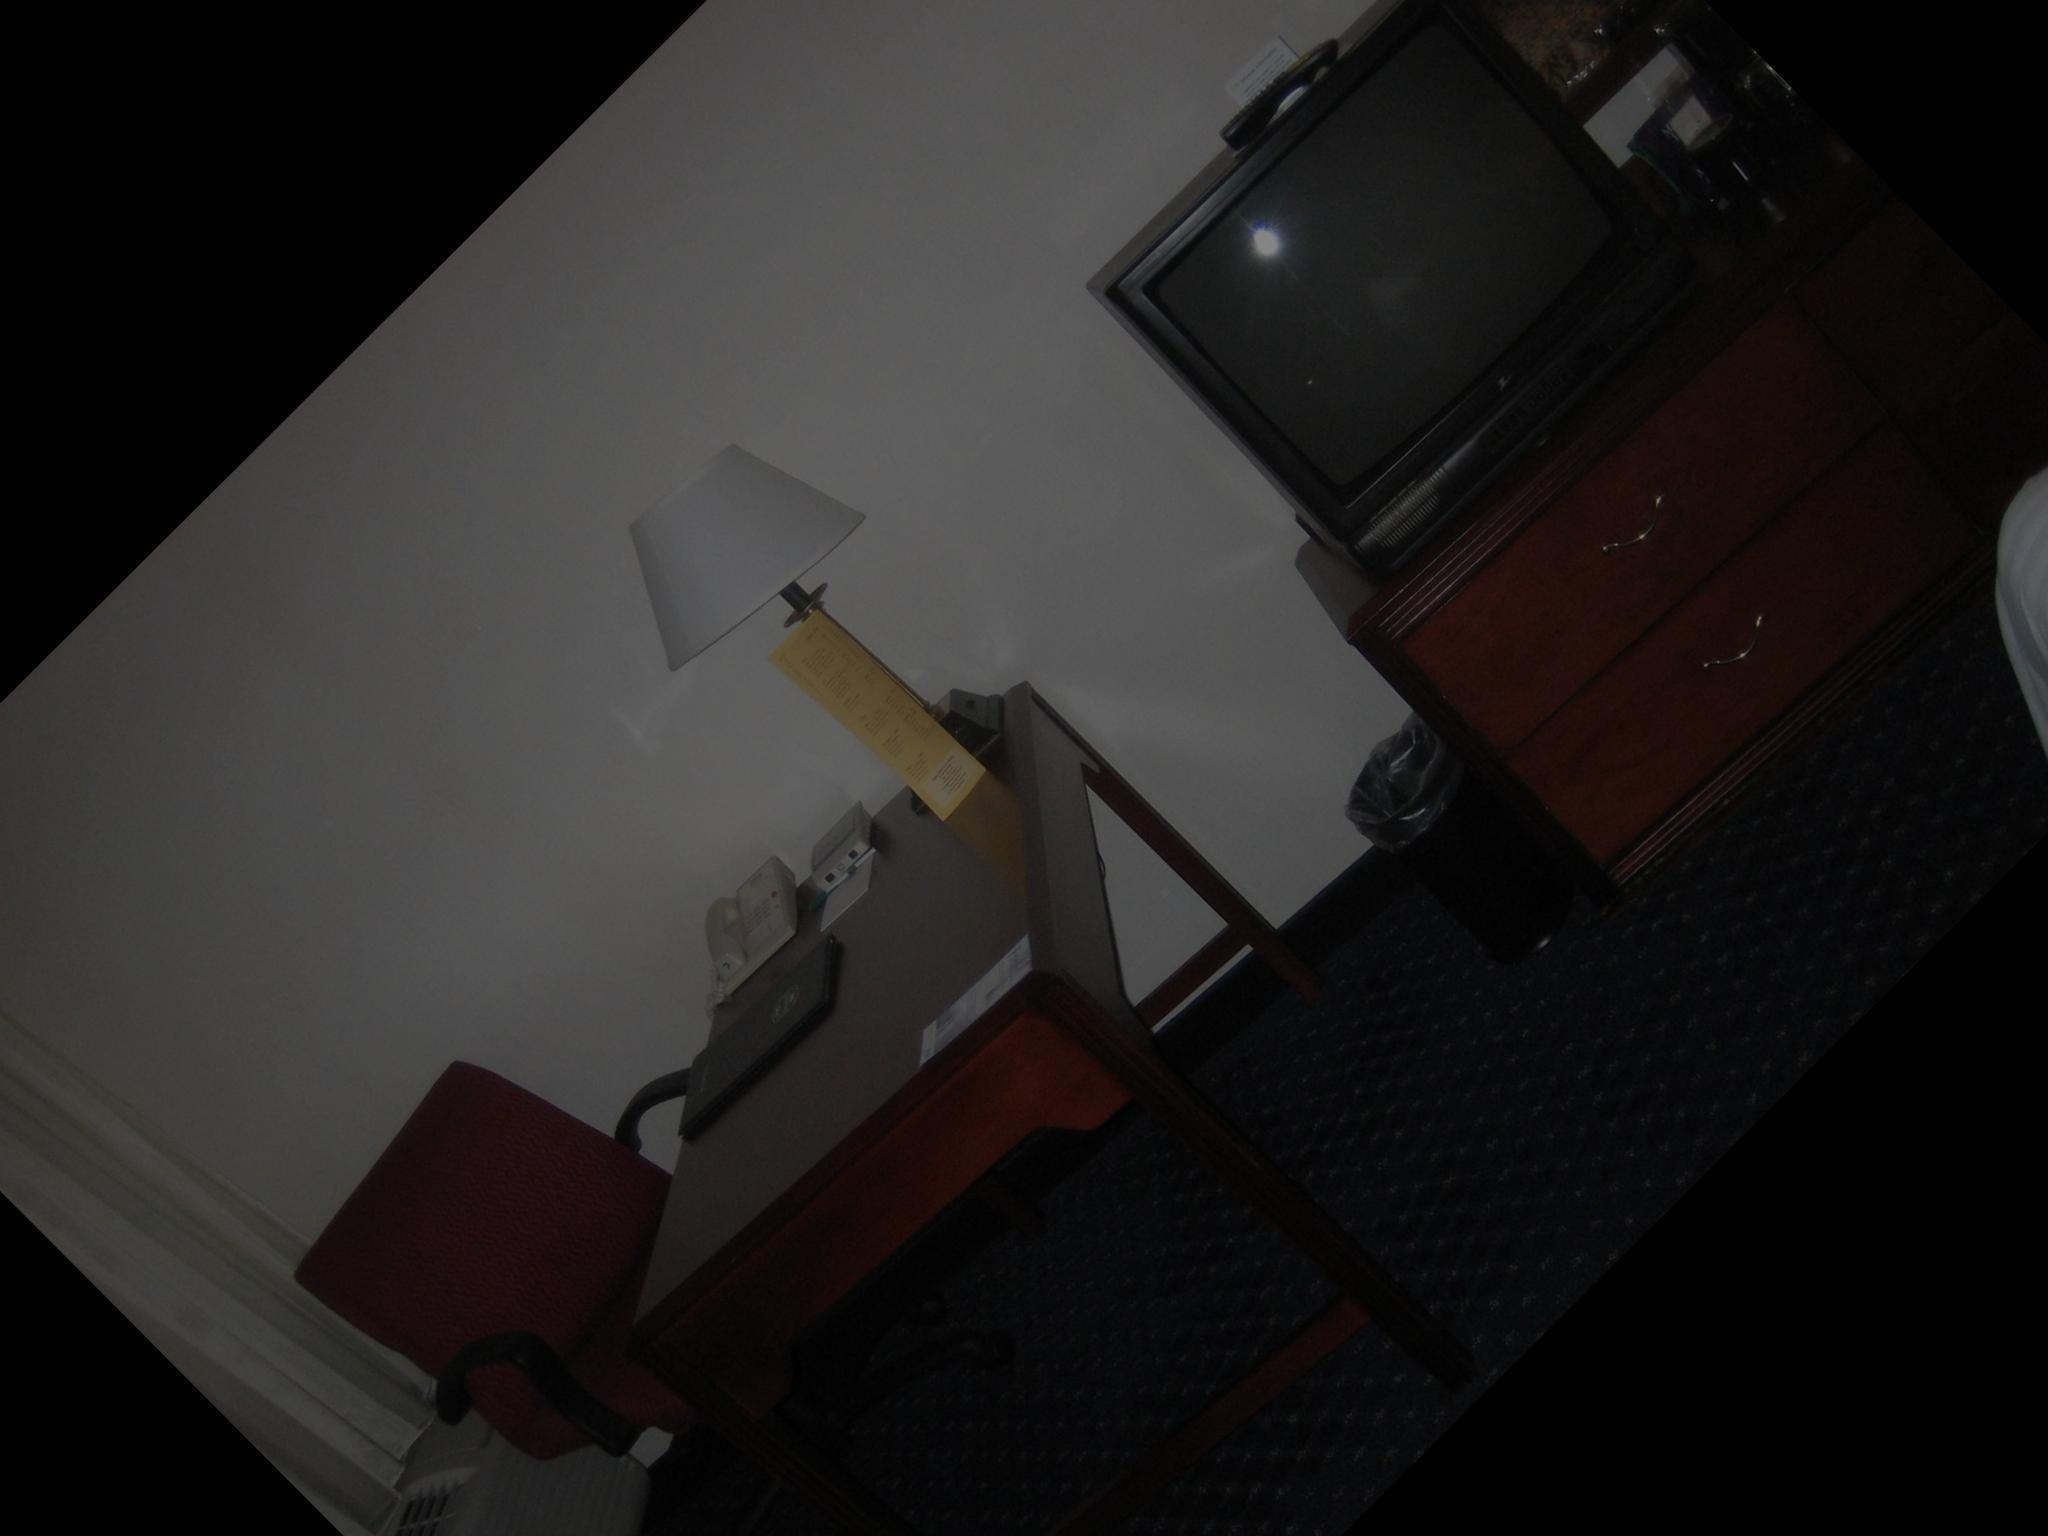Otro Obstaculo: (1311, 694, 1613, 994)
